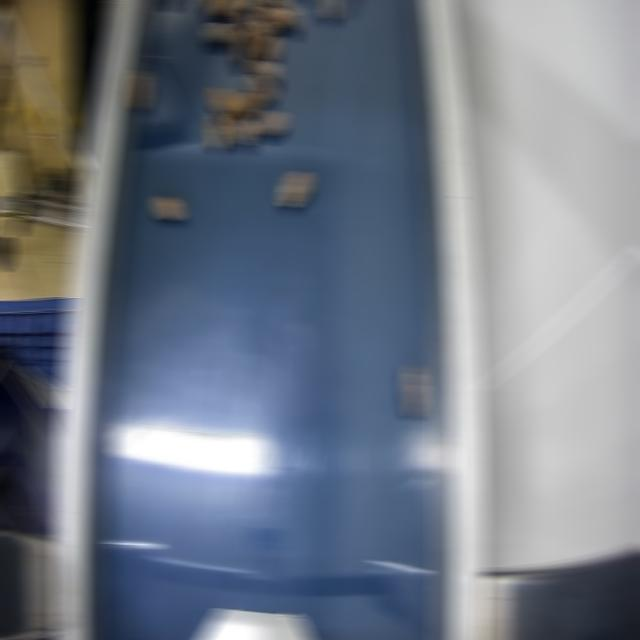Baby Potato: (403, 365, 426, 417), (283, 170, 310, 207), (227, 112, 254, 145), (130, 70, 149, 109), (275, 0, 298, 31), (235, 92, 262, 118), (212, 87, 235, 117), (248, 74, 273, 101), (258, 110, 285, 135), (233, 31, 254, 63), (156, 195, 181, 221), (250, 59, 277, 83), (247, 21, 276, 43), (209, 113, 226, 149), (206, 23, 233, 44), (212, 0, 237, 20), (258, 35, 277, 61), (263, 7, 286, 27), (234, 11, 257, 31), (321, 0, 338, 20), (239, 0, 260, 15), (204, 0, 221, 12), (262, 0, 281, 7)
